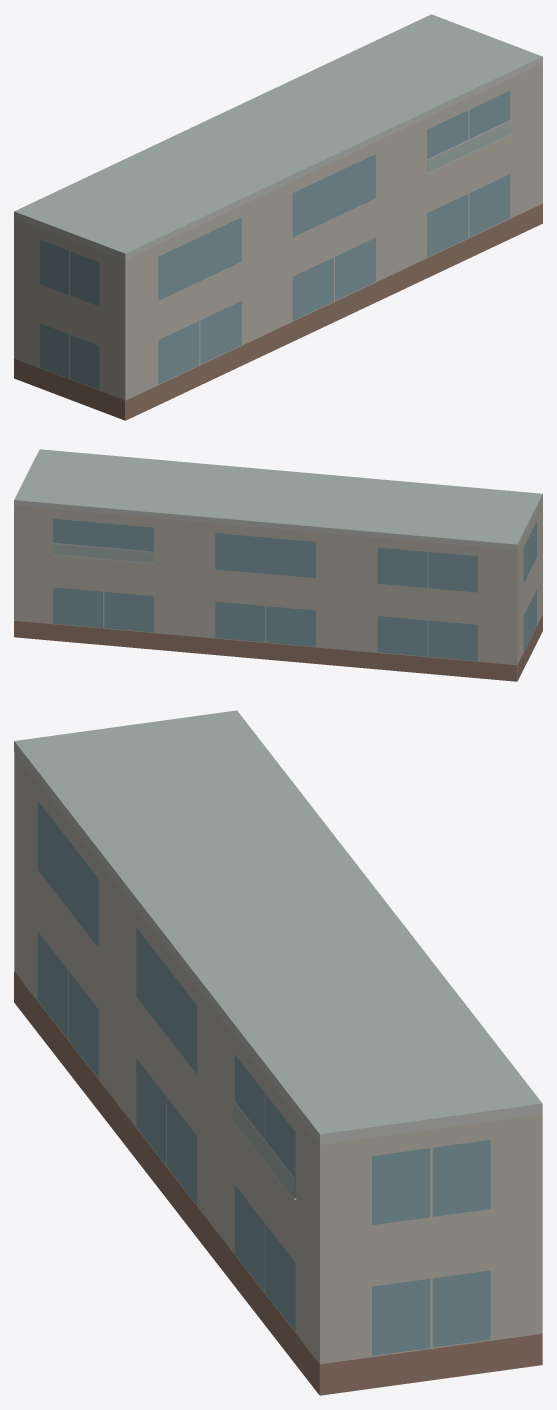
Rendered from survey-upis-32715535.glb.
3 renders of one model, top to bottom at view 1: azimuth 30°, elevation 25°; view 2: azimuth 150°, elevation 25°; view 3: azimuth 270°, elevation 25°, orthographic. The views are drawn at different scales.
Visible parts, largest first — view 1: survey-upis-32715535.tmp; view 2: survey-upis-32715535.tmp; view 3: survey-upis-32715535.tmp.
Part boxes in pixels (x1,y1,x2,y2): survey-upis-32715535.tmp: (14, 14, 542, 420); survey-upis-32715535.tmp: (14, 449, 542, 681); survey-upis-32715535.tmp: (14, 710, 542, 1395).
Size of the model in its own units: 21.24 by 6.1 by 11.19.
